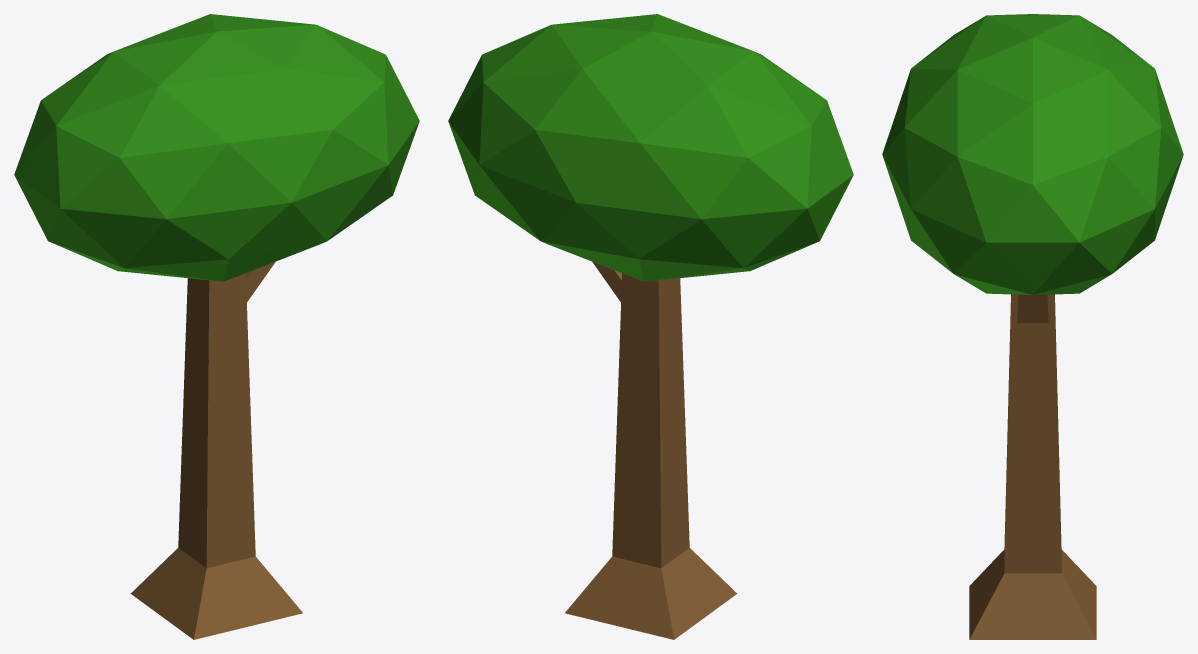
The model's file is Tree.fbx.
3 views of the same model, side by side, from view 1: azimuth 30°, elevation 25°; view 2: azimuth 150°, elevation 25°; view 3: azimuth 270°, elevation 25° (orthographic).
Visible parts, largest first — view 1: Icosphere, Cube; view 2: Icosphere, Cube; view 3: Icosphere, Cube.
Boxes of the visible parts, x1,y1,x2,y2 form: Icosphere: (14,14,419,281); Cube: (130,262,302,639); Icosphere: (448,14,853,281); Cube: (565,262,737,639); Icosphere: (882,14,1183,294); Cube: (969,294,1096,639).
Size of the model in its own units: 1463 by 2225 by 1056.
